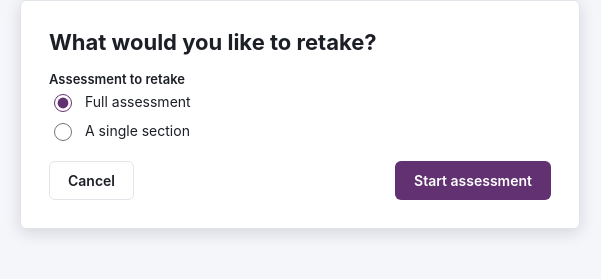
ReassessPage › says so when there are no sections to pick from
Click the radio button labelled "A single section". click: click(63, 132)
box: 54,123 -> 72,141
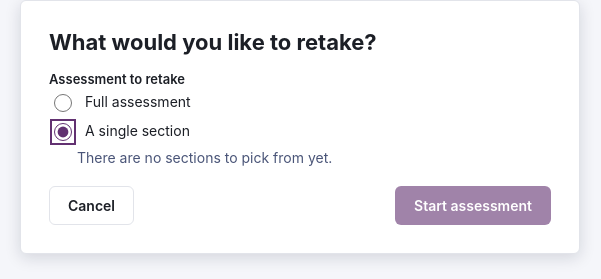
Check: the text "There are no sections to pick from yet." is shown, box 77,149 -> 332,166
Check: the button "Start assessment" is disabled, box 395,186 -> 551,225
